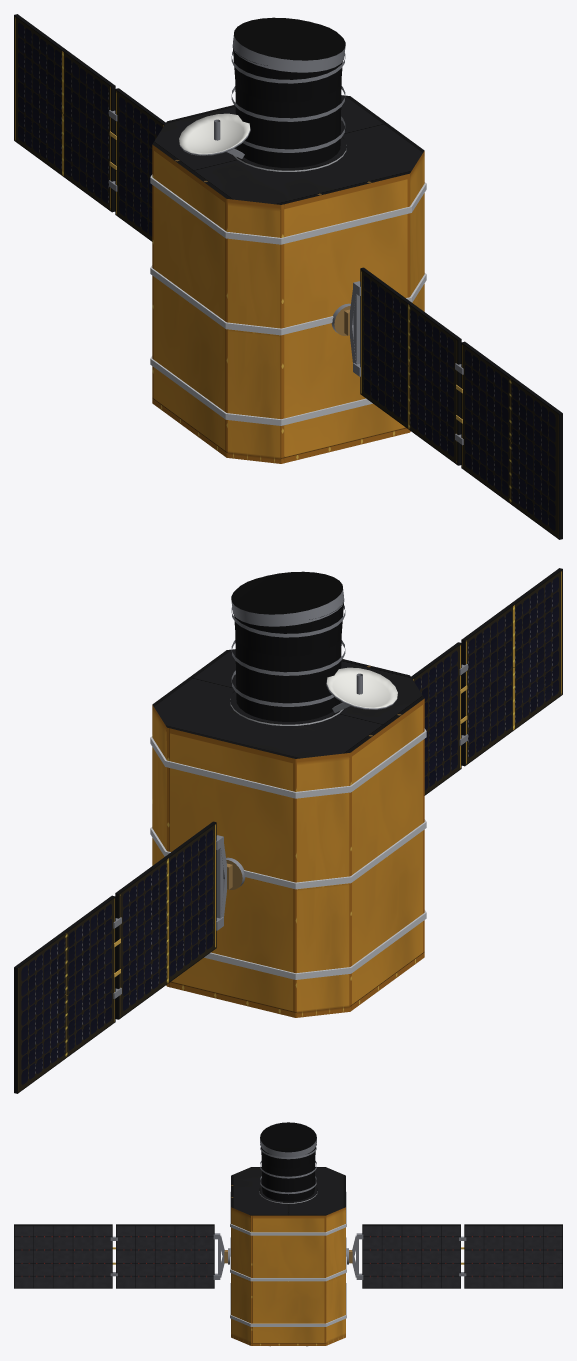
File: eros-c3.glb
3 views of the same model, one above another, from view 1: azimuth 30°, elevation 25°; view 2: azimuth 150°, elevation 25°; view 3: azimuth 270°, elevation 25° (orthographic). The views are drawn at different scales.
Parts seen in each view (by area): view 1: bus, wing-Y, wing+Y; view 2: bus, wing+Y, wing-Y; view 3: bus, wing+Y, wing-Y.
Boxes of the visible parts, x1=… form: bus: x1=150, y1=17, x2=426, y2=463; wing-Y: x1=344, y1=267, x2=562, y2=539; wing+Y: x1=14, y1=14, x2=165, y2=241; bus: x1=150, y1=571, x2=426, y2=1017; wing+Y: x1=14, y1=821, x2=232, y2=1093; wing-Y: x1=411, y1=568, x2=562, y2=795; bus: x1=230, y1=1122, x2=346, y2=1346; wing+Y: x1=349, y1=1224, x2=562, y2=1288; wing-Y: x1=14, y1=1224, x2=227, y2=1288.
Size of the model in its own units: 1.45 by 2.72 by 6.68.
15 materials, 5 textured.
